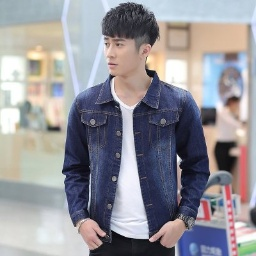face: (101, 2, 161, 79)
